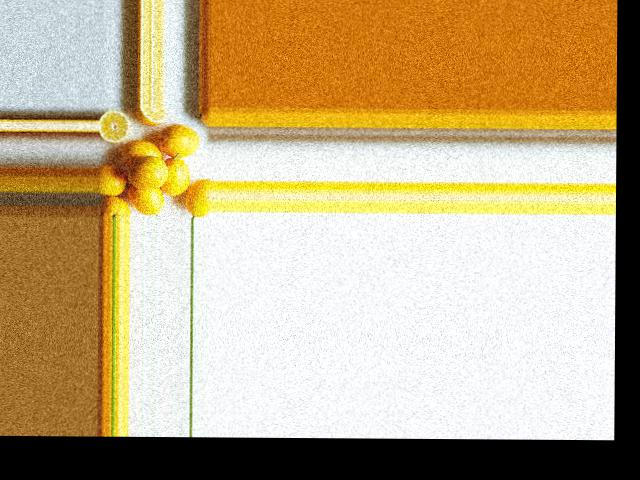lemon: (99, 166, 127, 196)
